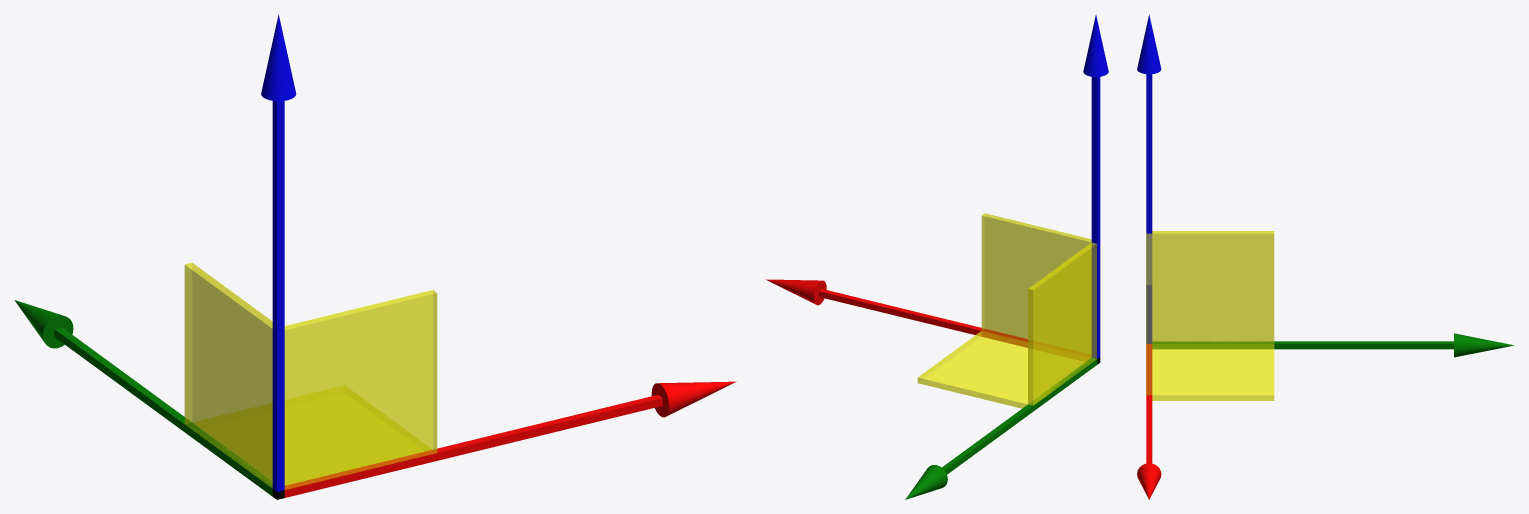
Rendered from GizmoTranslation001.DAE.
3 renders of one model, left to right at view 1: azimuth 30°, elevation 25°; view 2: azimuth 150°, elevation 25°; view 3: azimuth 270°, elevation 25°, orthographic. The views are drawn at different scales.
Parts seen in each view (by area): view 1: planeXZ, planeYZ, planeXY, axisZ_PIVOT, axisX_PIVOT, axisY_PIVOT, tipZ_PIVOT, tipX_PIVOT, tipY_PIVOT; view 2: planeXZ, planeYZ, planeXY, axisZ_PIVOT, axisX_PIVOT, axisY_PIVOT, tipZ_PIVOT, tipX_PIVOT, tipY_PIVOT; view 3: planeYZ, planeXY, axisY_PIVOT, axisZ_PIVOT, planeXZ, axisX_PIVOT, tipZ_PIVOT, tipY_PIVOT, tipX_PIVOT.
Part boxes in pixels (box(x1,y1,x2,y2)): planeXZ: box(284, 290, 437, 489); planeYZ: box(184, 262, 272, 488); planeXY: box(193, 386, 431, 484); axisZ_PIVOT: box(272, 101, 284, 491); axisX_PIVOT: box(284, 395, 662, 497); axisY_PIVOT: box(54, 327, 272, 496); tipZ_PIVOT: box(261, 14, 296, 101); tipX_PIVOT: box(651, 381, 736, 417); tipY_PIVOT: box(14, 300, 73, 348); planeXZ: box(981, 213, 1091, 353); planeYZ: box(1028, 242, 1096, 405); planeXY: box(917, 331, 1084, 408); axisZ_PIVOT: box(1091, 77, 1100, 358); axisX_PIVOT: box(819, 289, 1027, 347); axisY_PIVOT: box(942, 358, 1097, 474); tipZ_PIVOT: box(1083, 15, 1108, 76); tipX_PIVOT: box(765, 279, 826, 305); tipY_PIVOT: box(905, 465, 947, 499); planeYZ: box(1152, 231, 1274, 343); planeXY: box(1152, 344, 1274, 400); axisY_PIVOT: box(1152, 341, 1453, 349); axisZ_PIVOT: box(1146, 74, 1152, 343); planeXZ: box(1146, 233, 1152, 395); axisX_PIVOT: box(1146, 344, 1152, 463); tipZ_PIVOT: box(1137, 14, 1161, 74); tipY_PIVOT: box(1454, 333, 1514, 357); tipX_PIVOT: box(1137, 463, 1161, 499).
Bounding box in the file's own units: 1.24 × 1.24 × 1.24.
